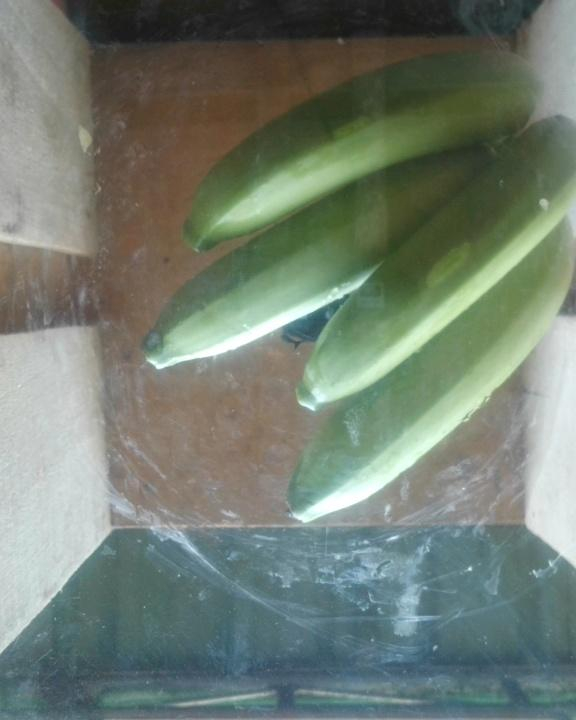SPOT: (132, 46, 576, 530)
